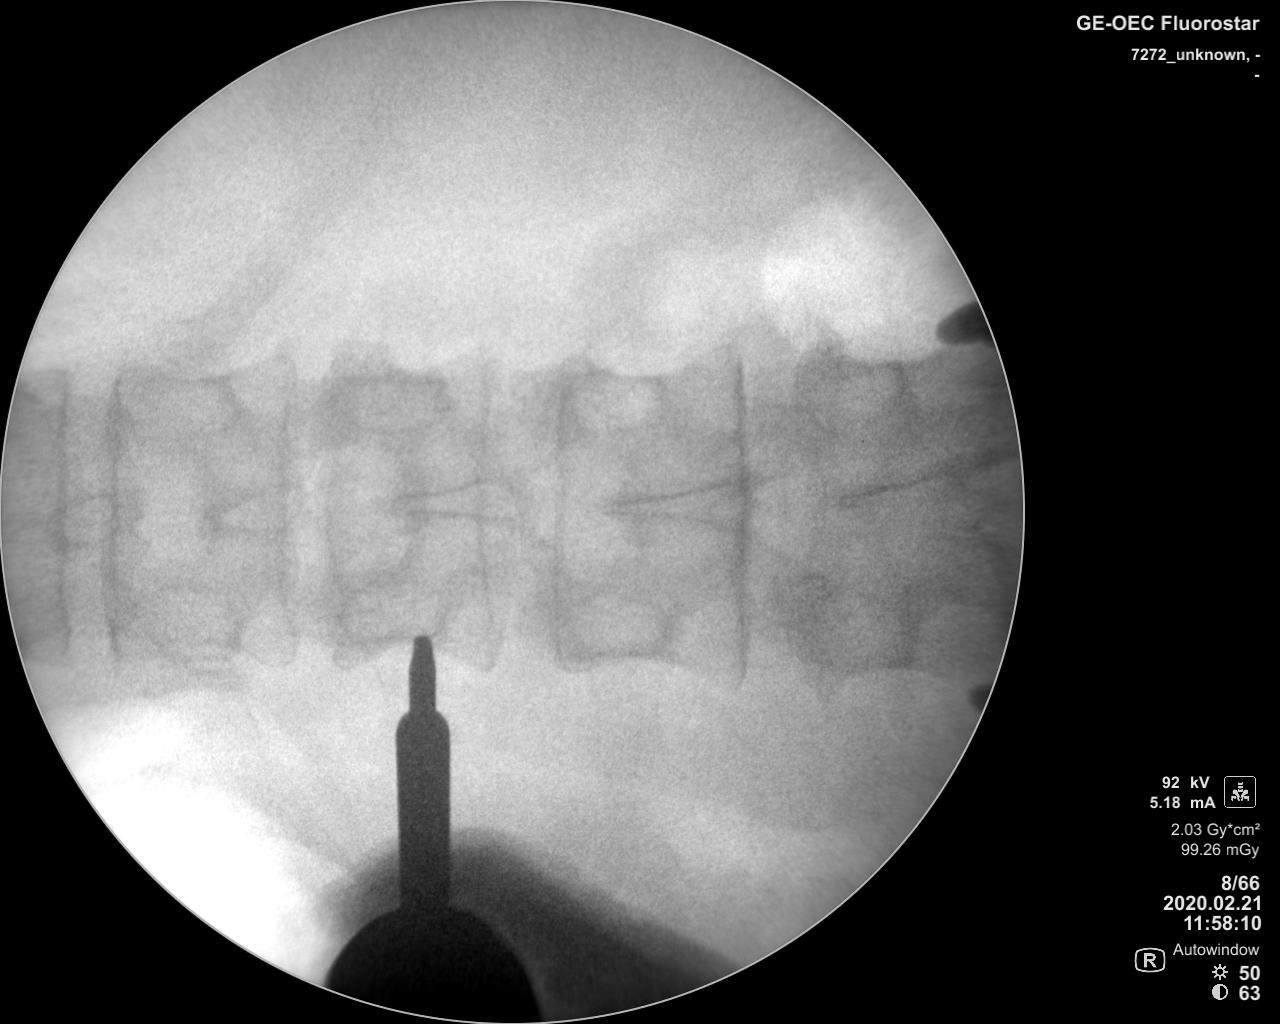eyes: (108, 369, 241, 439), (802, 596, 910, 681), (795, 351, 899, 433), (328, 367, 448, 435), (134, 585, 245, 658), (336, 573, 441, 641), (562, 365, 664, 433), (563, 594, 667, 659)
line: (467, 329, 514, 684), (721, 322, 760, 696), (93, 348, 132, 685), (318, 343, 352, 677), (544, 329, 576, 680), (48, 358, 84, 662), (274, 340, 306, 670)
nose: (595, 474, 771, 537), (821, 470, 980, 529), (381, 474, 529, 528), (196, 478, 310, 541), (21, 493, 139, 544)
